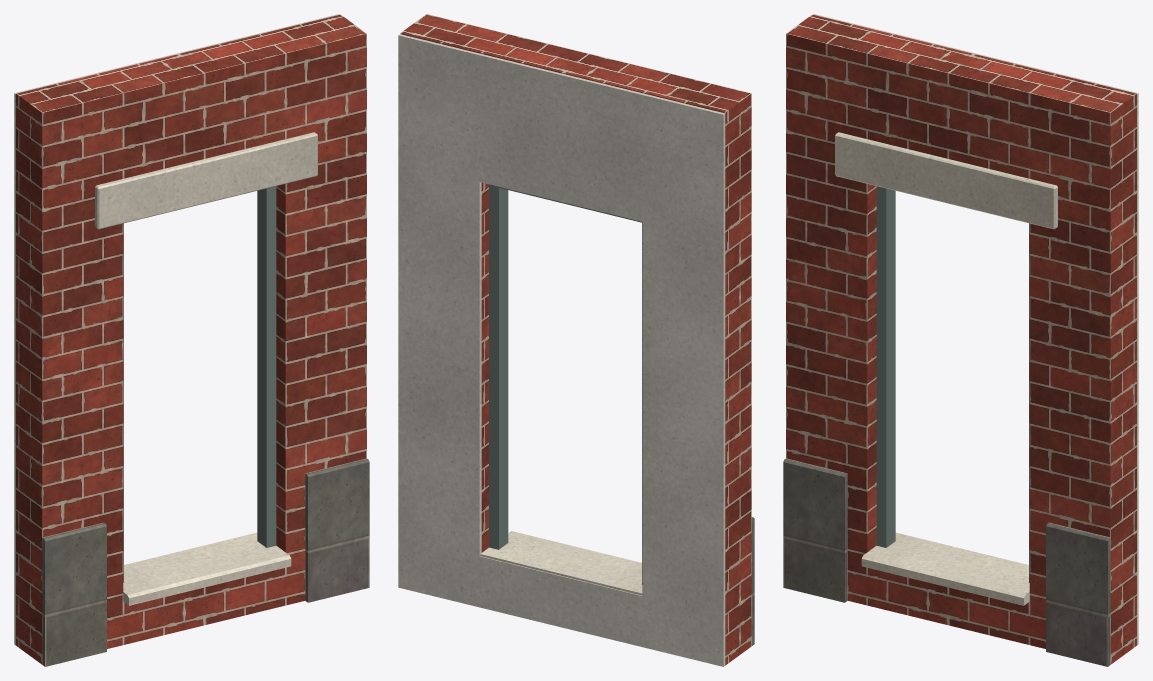
Rendered from o_g_door_in.glb.
The picture shows the model from 3 angles, left to right: view 1: azimuth 30°, elevation 25°; view 2: azimuth 150°, elevation 25°; view 3: azimuth 330°, elevation 25°; orthographic projection.
Parts seen in each view (by area): view 1: o_g_door_in_brick, o_g_door_in_plinth, o_g_door_in_trim, o_g_door_in_wframe, o_g_door_in_plaster; view 2: o_g_door_in_plaster, o_g_door_in_brick, o_g_door_in_wframe, o_g_door_in_trim; view 3: o_g_door_in_brick, o_g_door_in_plinth, o_g_door_in_trim, o_g_door_in_wframe, o_g_door_in_plaster.
Boxes of the visible parts, x1,y1,x2,y2 form: o_g_door_in_brick: (16,14,366,664); o_g_door_in_plinth: (42,458,369,666); o_g_door_in_trim: (95,132,317,605); o_g_door_in_wframe: (123,186,276,582); o_g_door_in_plaster: (14,14,339,645); o_g_door_in_plaster: (398,34,725,666); o_g_door_in_brick: (400,14,751,665); o_g_door_in_wframe: (489,184,642,584); o_g_door_in_trim: (480,531,642,595); o_g_door_in_brick: (786,14,1136,664); o_g_door_in_plinth: (783,458,1110,666); o_g_door_in_trim: (835,132,1057,605); o_g_door_in_wframe: (876,186,1029,582); o_g_door_in_plaster: (813,14,1138,645).
Bounding box in the file's own units: 2 × 3.25 × 0.36.
Materials: 5 (4 with a texture image).
